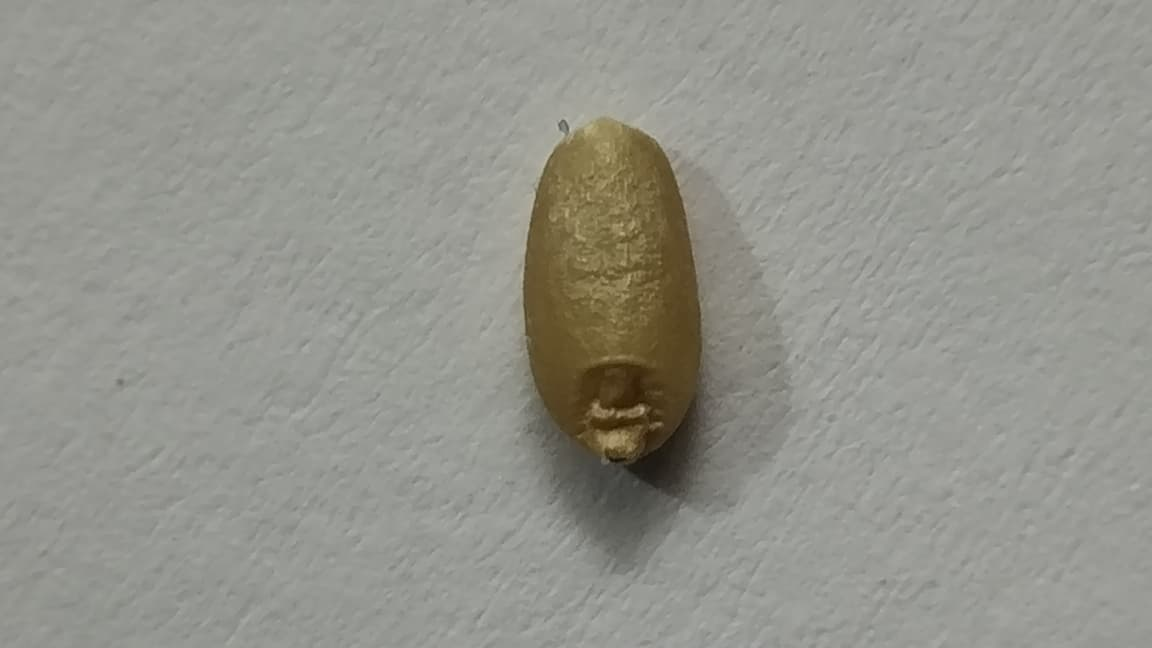healthy: (523, 118, 701, 463)
